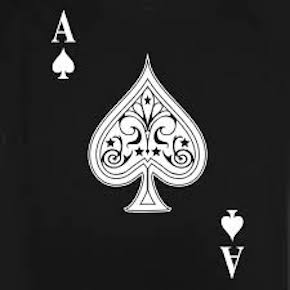AceOfSpades: (45, 5, 253, 287)
